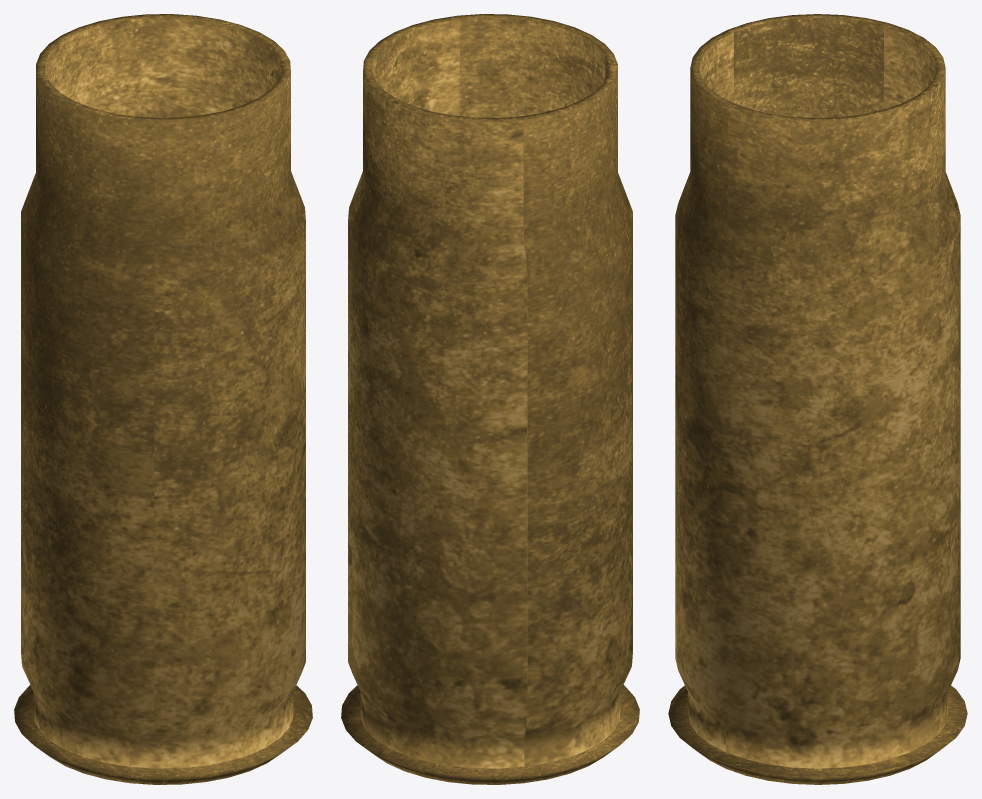
Rendered from 7.62 x 25 Tokarev.fbx.
The picture shows the model from 3 angles, left to right: view 1: azimuth 30°, elevation 25°; view 2: azimuth 150°, elevation 25°; view 3: azimuth 270°, elevation 25°; orthographic projection.
Visible parts, largest first — view 1: 7.62 x 25 Casing; view 2: 7.62 x 25 Casing; view 3: 7.62 x 25 Casing.
Boxes of the visible parts, x1,y1,x2,y2 form: 7.62 x 25 Casing: (14,14,312,784); 7.62 x 25 Casing: (341,14,639,784); 7.62 x 25 Casing: (668,14,967,784).
Size of the model in its own units: 0.995 by 2.43 by 0.995.
1 material, 1 textured.
